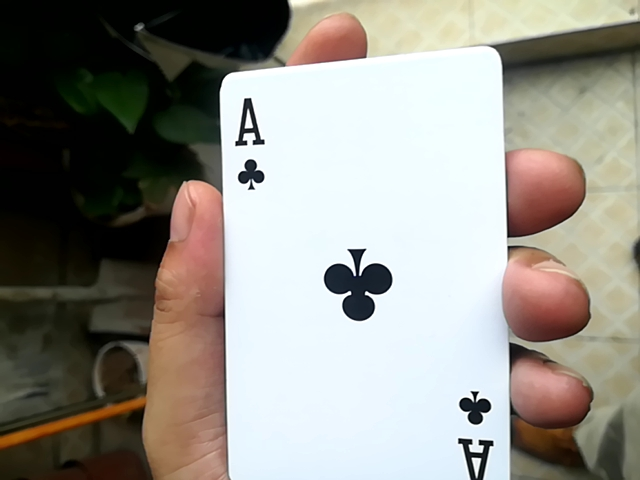mh a: (208, 44, 523, 480)
